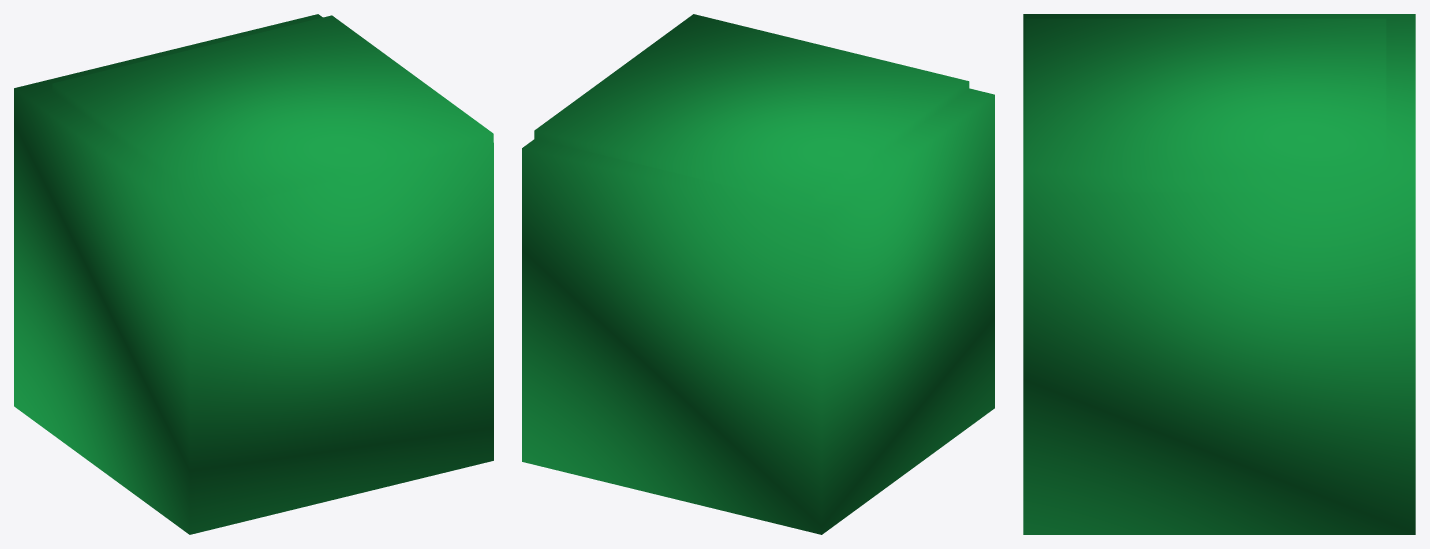
Rendered from ps2_jrpg_sacred_sanctum_altar_frame.obj.
The picture shows the model from 3 angles, left to right: view 1: azimuth 30°, elevation 25°; view 2: azimuth 150°, elevation 25°; view 3: azimuth 270°, elevation 25°; orthographic projection. The views are drawn at different scales.
Bounding box in the file's own units: 1 × 1.03 × 1.
